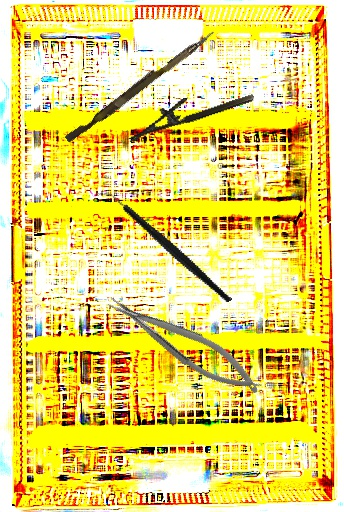Chopper: (96, 161, 233, 333)
Needle Holder: (102, 281, 268, 407), (121, 77, 256, 143)
Pusher: (64, 24, 217, 147)
